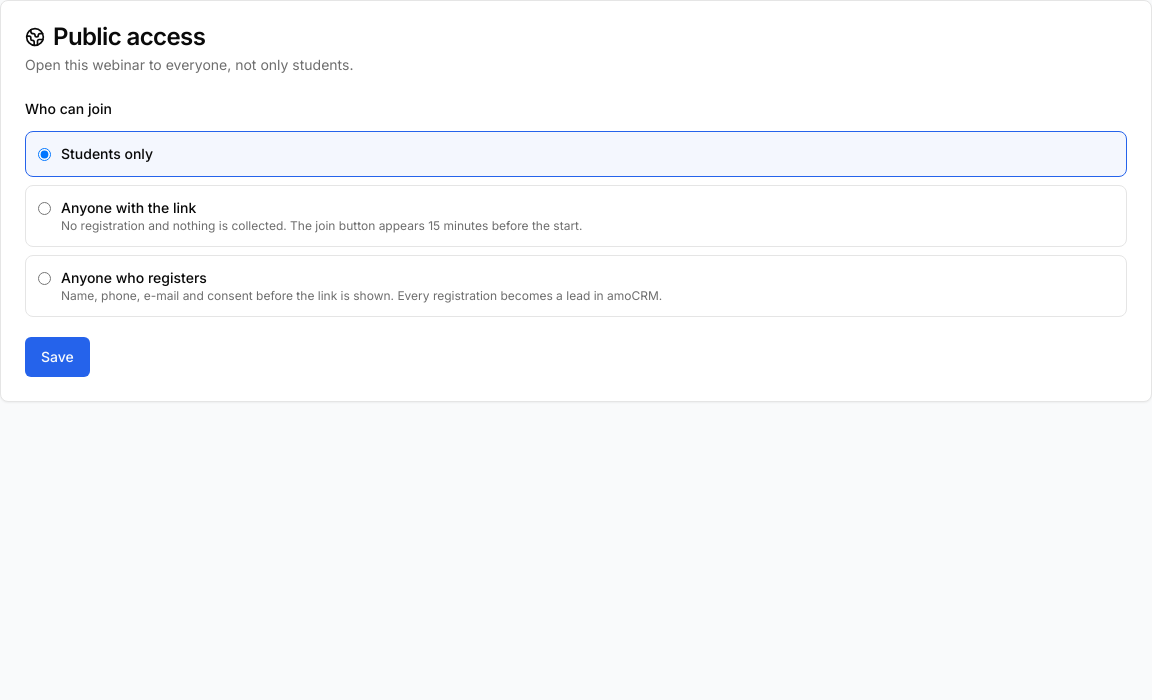
it: the presenter on the public page › starts as «The host», names who that is, and offers no speaker list
Click the 2nd radio button at (44, 208), box [38,202,51,215]
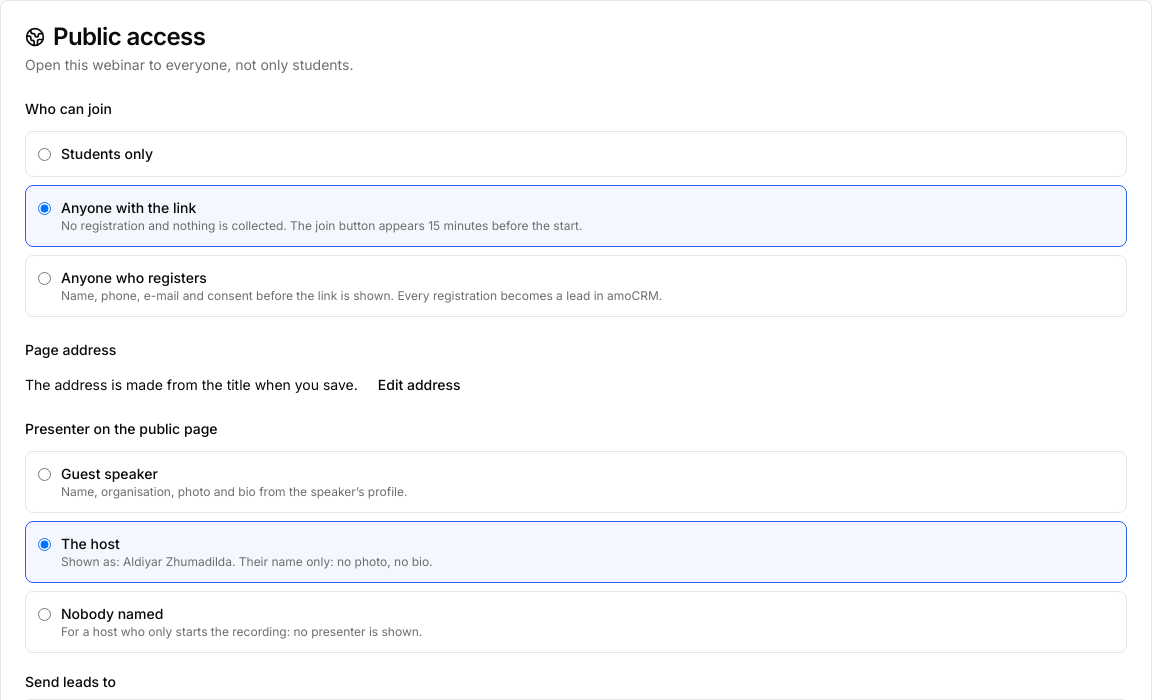
Check: the text "Shown as: Aldiyar Zhumadilda. Their name only: no photo, no bio." is shown, box [61,554,433,570]
